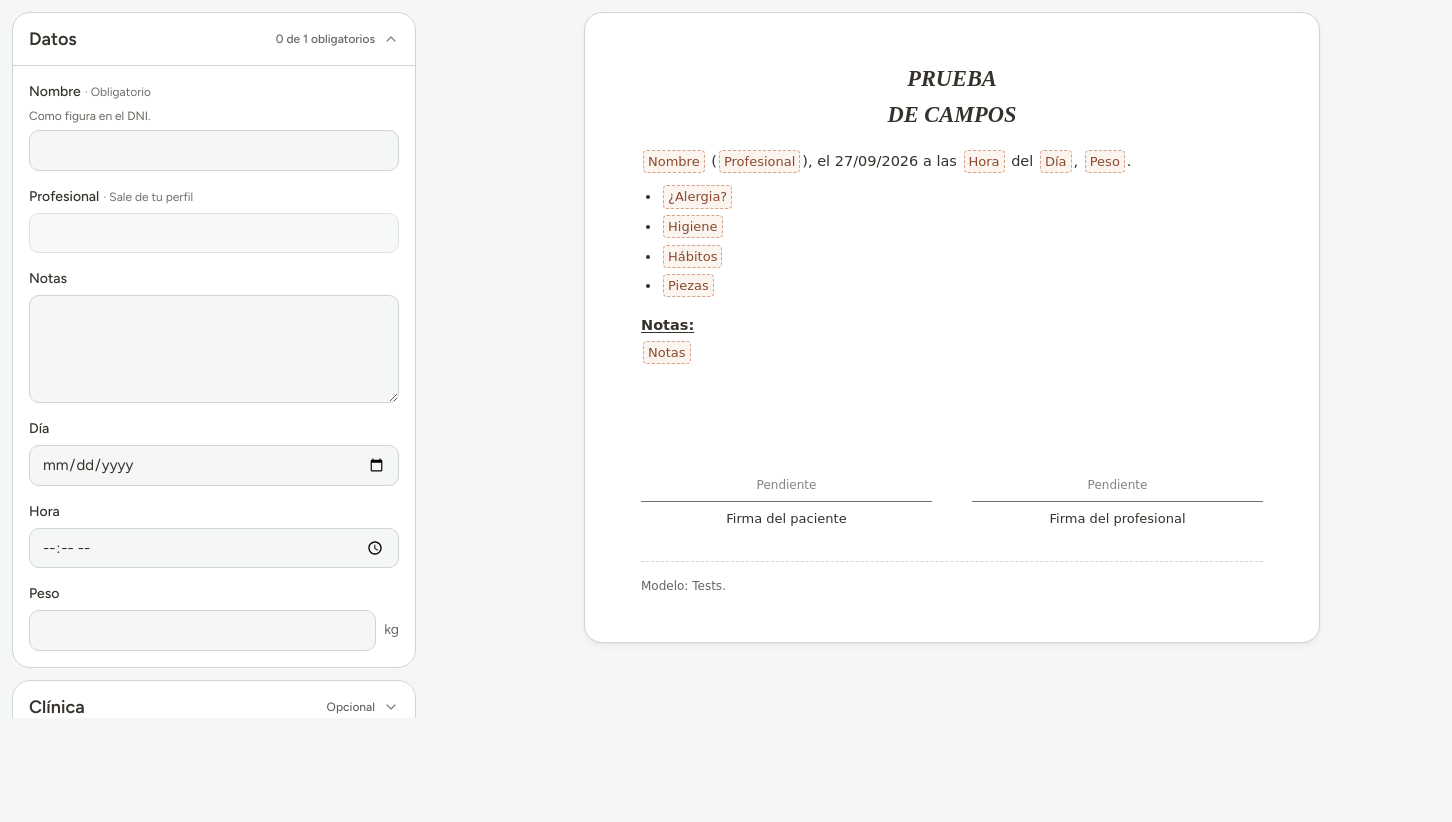
Scenario: EditorDeDocumento: las secciones se despliegan › abrir una sección cierra la otra
The width and height of the screenshot is (1452, 822).
Click the button "Clínica Opcional" at {"x": 57, "y": 706}, box [13,680,415,732]
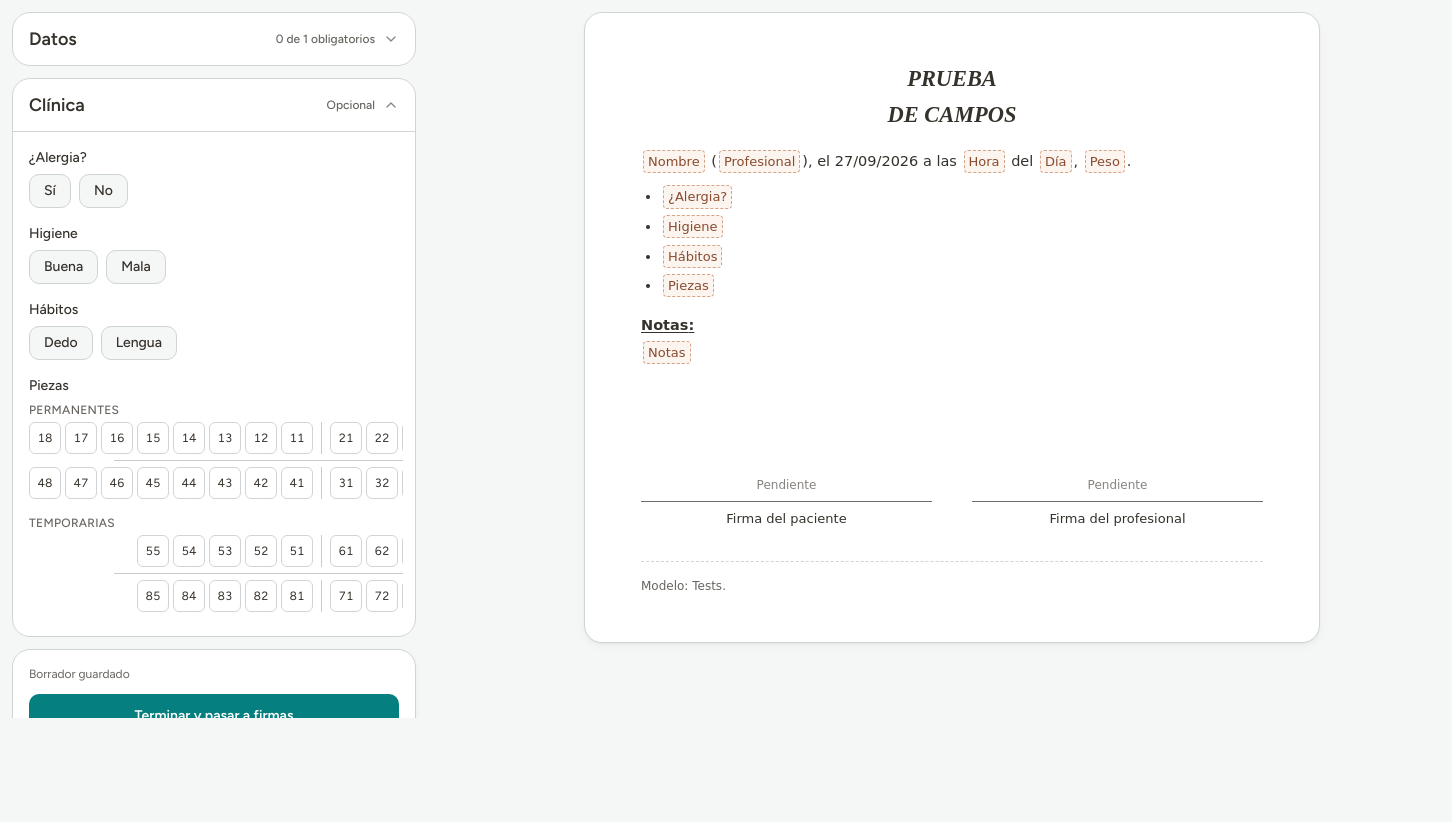
Result: the button "Clínica Opcional" is expanded
Result: the button "Datos 0 de 1 obligatorios" is collapsed at [13,13,415,65]
# Tocar la abierta la cierra: quedan las dos cerradas.
Click the button "Clínica Opcional" at {"x": 57, "y": 105}, box [13,79,415,131]
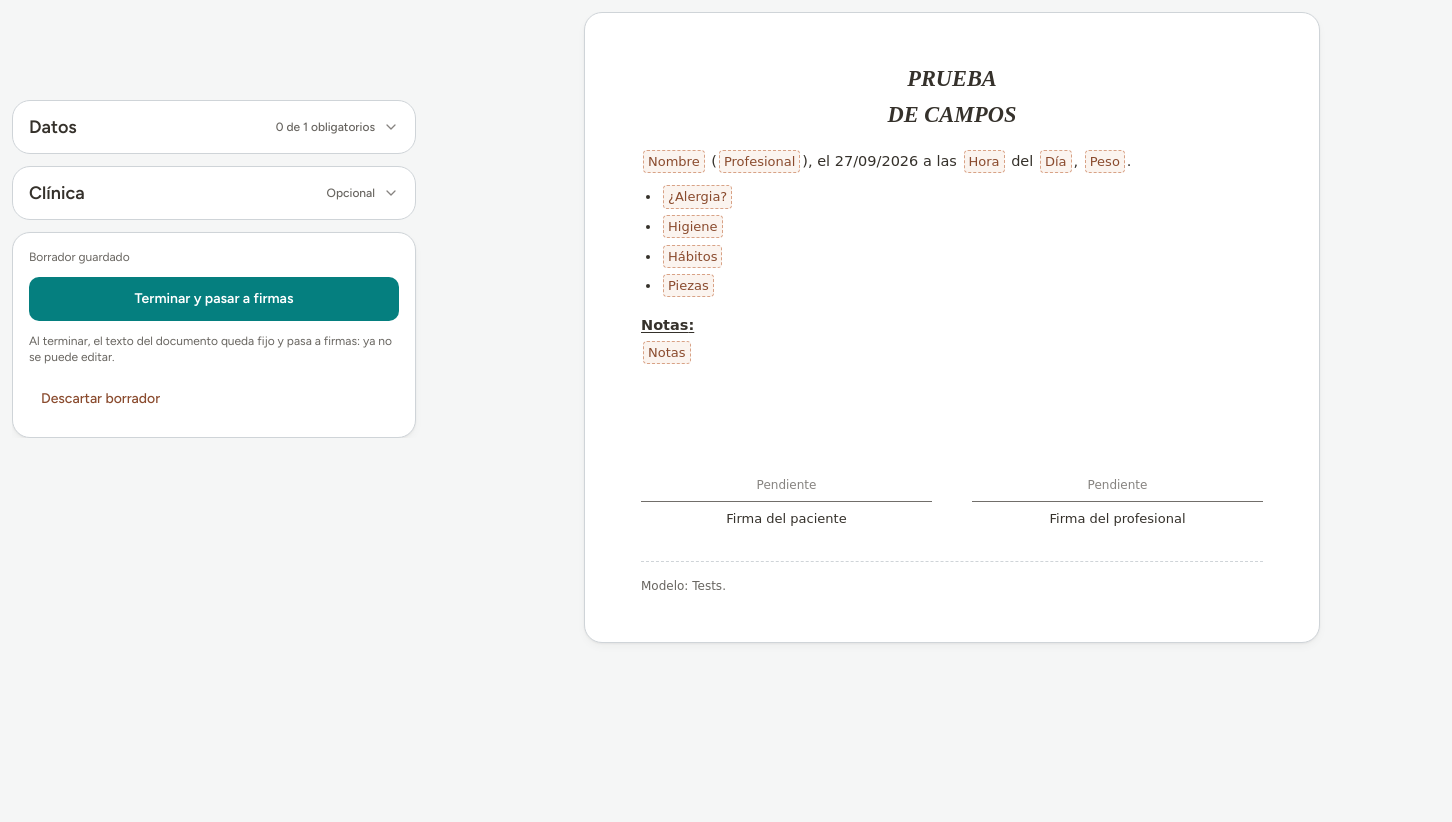
Result: the button "Clínica Opcional" is collapsed at [13,167,415,219]
